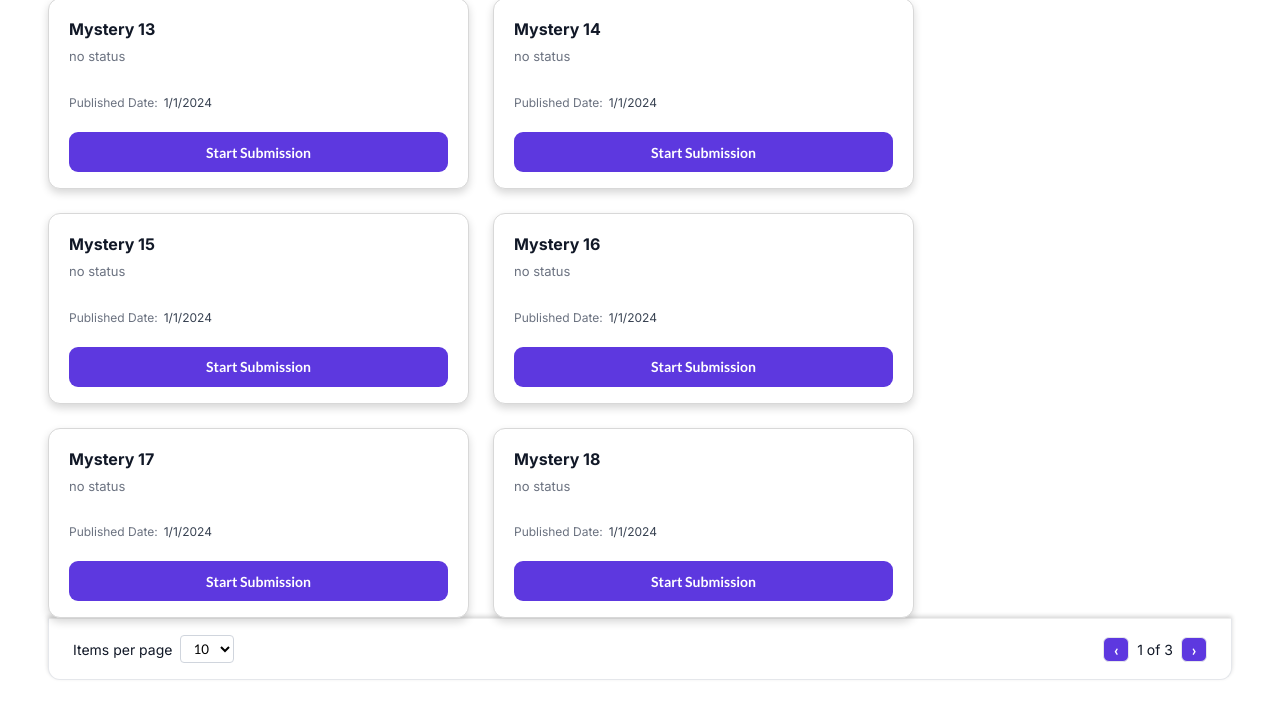
<LearnerForms /> › treats item without status as published, and exercises pagination footer (page & pageSize changes)
(page scrolled)
Expected: the text "1 of 3" is shown, [1137,641,1173,658]
Expected: the button "‹" is disabled, [1103,637,1129,662]
go to page 2 (client-side only – no new API call expected)
Click the button "›".
click(1194, 649)  # box [1181,637,1207,662]
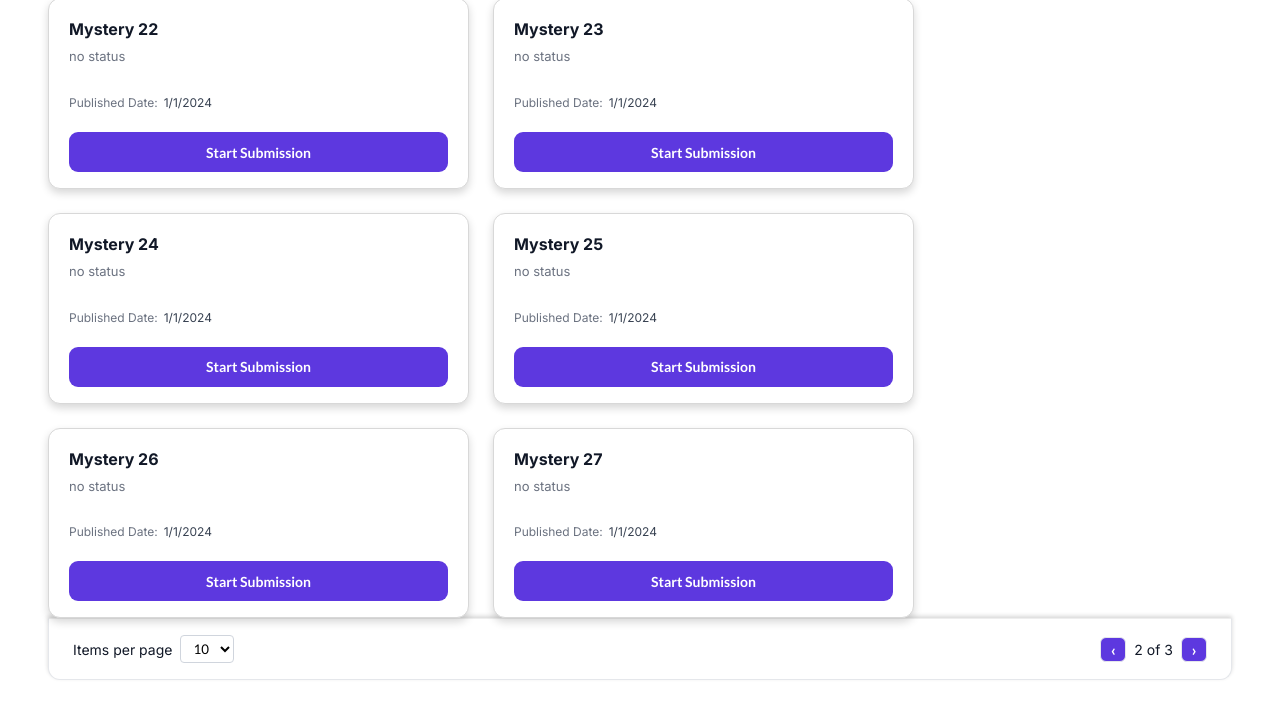
Expected: the text "2 of 3" is shown, [1134,641,1173,658]
Expected: the button "‹" is enabled, [1100,637,1126,662]
Select "25" in the dropdown showing "10" at (207, 649), box [180,635,234,663]
(page scrolled)
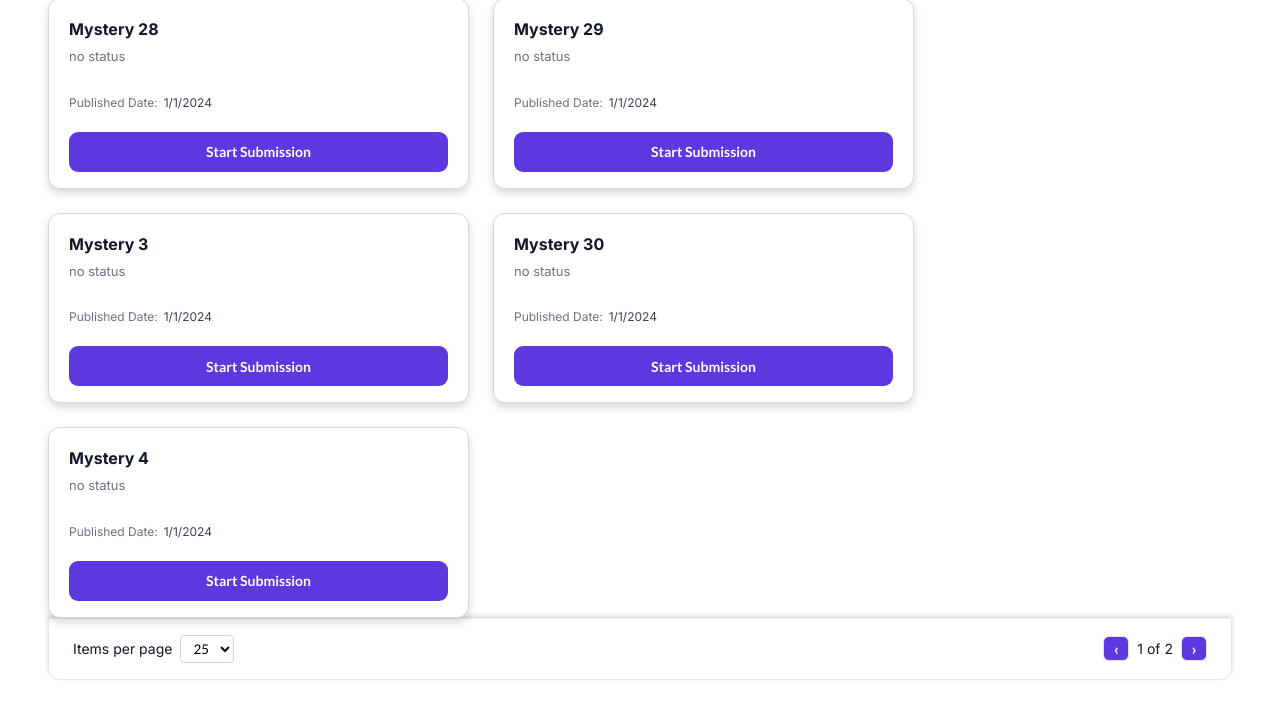
Expected: the text "1 of 2" is shown, [1137,640,1173,657]
